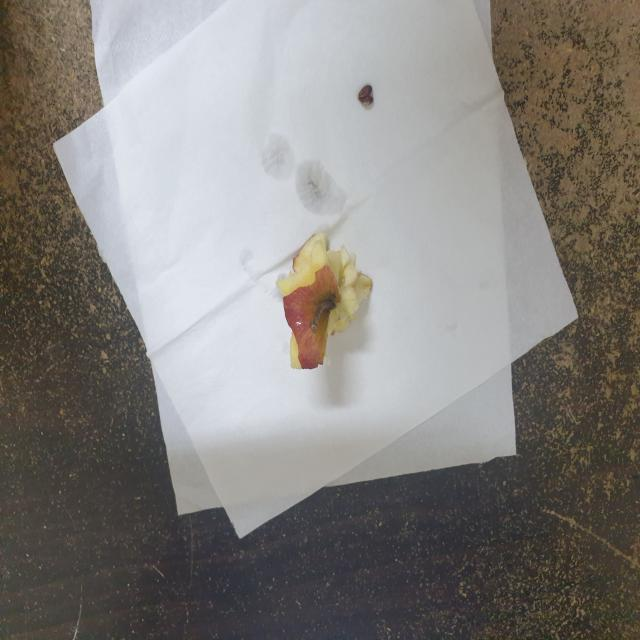apple: (274, 214, 382, 378)
